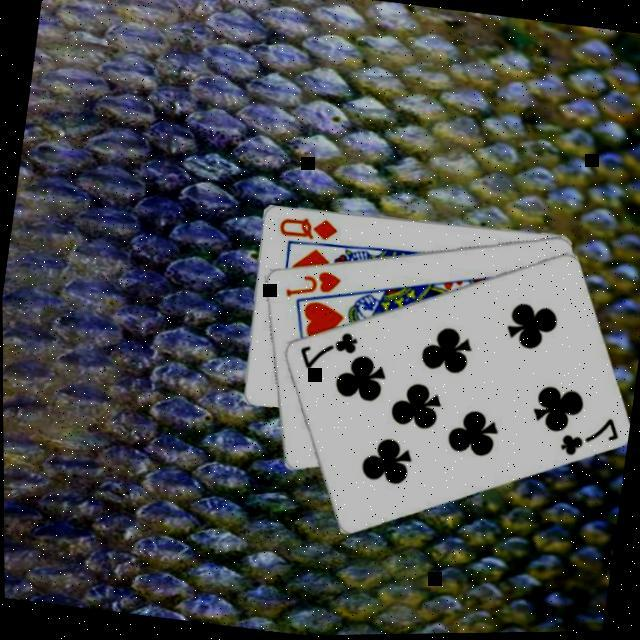7C: (295, 324, 363, 380), (556, 411, 624, 467)
JH: (283, 264, 345, 308)
QD: (276, 212, 343, 248)
